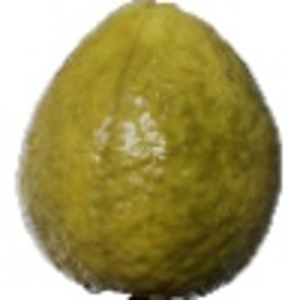goiaba: (11, 6, 286, 291)
